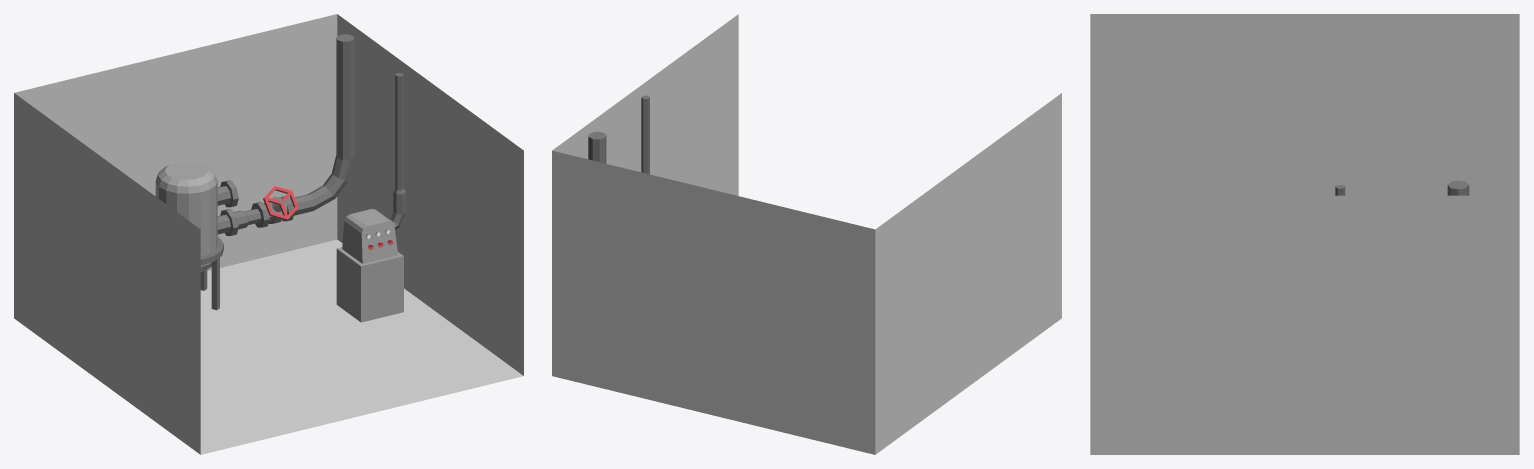
File: bunkerBoiler.fbx
3 views of the same model, side by side, from view 1: azimuth 30°, elevation 25°; view 2: azimuth 150°, elevation 25°; view 3: azimuth 270°, elevation 25° (orthographic). The views are drawn at different scales.
Parts seen in each view (by area): view 1: Cube, Cylinder, Cube.001; view 2: Cube, Cube.001, Cylinder; view 3: Cube.
Boxes of the visible parts, <box> form: Cube: <box>14,14,523,454</box>; Cylinder: <box>155,34,354,310</box>; Cube.001: <box>336,73,405,322</box>; Cube: <box>552,14,1061,454</box>; Cube.001: <box>641,95,649,174</box>; Cylinder: <box>588,132,606,163</box>; Cube: <box>1090,14,1519,454</box>.
Size of the model in its own units: 600 by 400 by 600.
5 materials, 1 textured.
